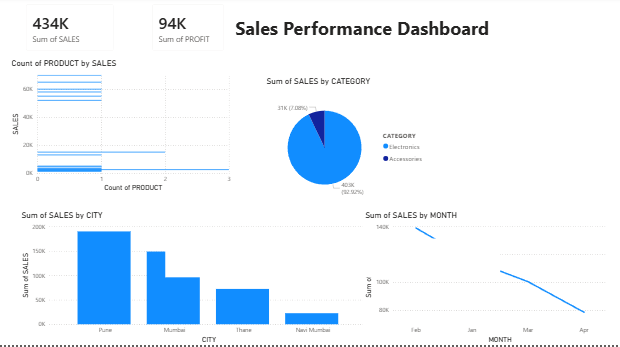

The page's visual inventory and layout, read from the dashboard file:
{"tool":"powerbi","page":{"name":"Page 1","canvas":[1280,720],"ordinal":0},"visuals":[{"type":"cardVisual","fields":{"Data":["Sum(sales_data.SALES)"]},"box":[37.5,0,215,130],"z":0},{"type":"cardVisual","fields":{"Data":["Sum(sales_data.PROFIT)"]},"box":[300,0,182.5,130],"z":1},{"type":"clusteredBarChart","fields":{"Category":["sales_data.SALES"],"Y":["CountNonNull(sales_data.PRODUCT)"]},"box":[20,130,462.5,280],"z":2},{"type":"clusteredColumnChart","fields":{"Category":["sales_data.CITY"],"Y":["Sum(sales_data.SALES)"]},"box":[42.5,440,725,280],"z":3},{"type":"lineChart","fields":{"Category":["sales_data.MONTH"],"Y":["Sum(sales_data.SALES)"]},"box":[750,440,507.5,280],"z":4},{"type":"textbox","box":[342.5,500,690,80],"z":5},{"type":"pieChart","fields":{"Category":["sales_data.CATEGORY"],"Y":["Sum(sales_data.SALES)"]},"box":[547.5,165,340,275],"z":6},{"type":"textbox","box":[482.5,35,730,60],"z":7}]}

Visuals, with their boxes in screenshot pixels (x1, y1, x2, y2), scaled from the page's 1280x720 canvas onto the 620x347 screenshot:
cardVisual - Sum(sales_data.SALES): 18/0/122/63
cardVisual - Sum(sales_data.PROFIT): 145/0/234/63
clusteredBarChart - sales_data.SALES x CountNonNull(sales_data.PRODUCT): 10/63/234/198
clusteredColumnChart - sales_data.CITY x Sum(sales_data.SALES): 21/212/372/346
lineChart - sales_data.MONTH x Sum(sales_data.SALES): 363/212/609/346
textbox: 166/241/500/280
pieChart - sales_data.CATEGORY x Sum(sales_data.SALES): 265/80/430/212
textbox: 234/17/587/46
